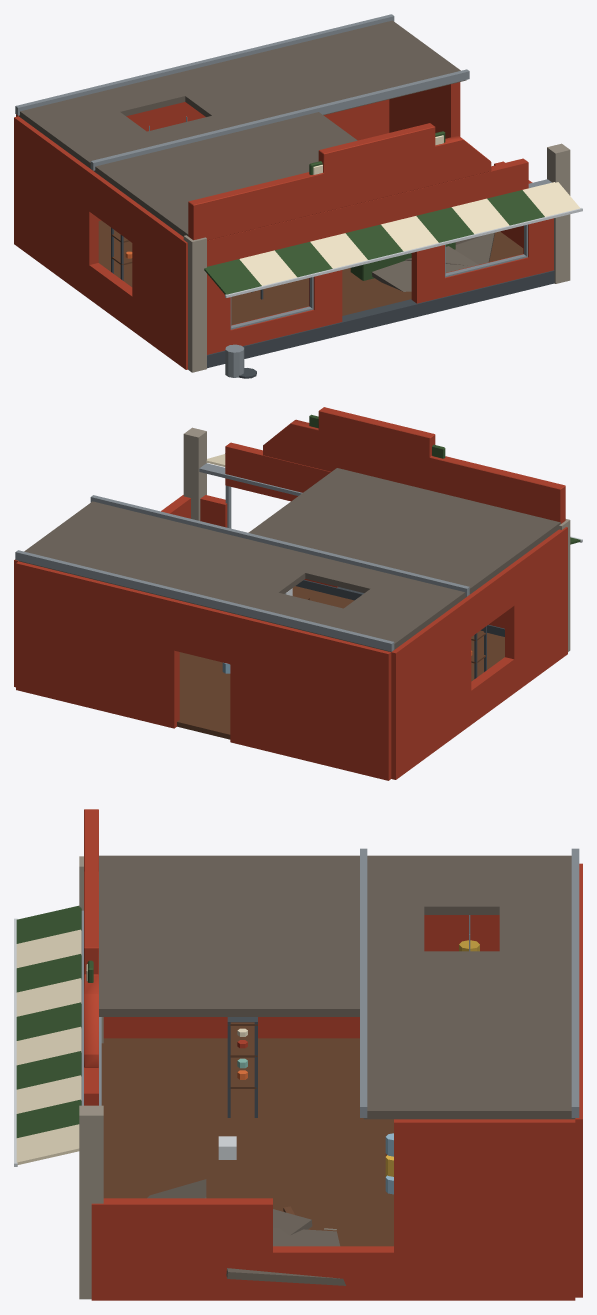
Rendered from Bldg_HardwareStore.fbx.
3 renders of one model, top to bottom at view 1: azimuth 30°, elevation 25°; view 2: azimuth 150°, elevation 25°; view 3: azimuth 270°, elevation 25°, orthographic. The views are drawn at different scales.
Visible parts, largest first — view 1: Roof, Decor, FalseFront, Wall13, Wall10, Floor, Wall16, Wall6, Wall8, Wall4, Wall3, Wall1 (+10 smaller); view 2: Roof, Wall17, Wall19, FalseFront, Decor, Wall13, Wall10, Floor, Wall8, Wall18, Wall12, Wall11 (+1 smaller); view 3: Roof, Floor, Decor, Wall16, Wall14, Wall15, FalseFront, Wall10, Wall13, Wall11, Wall19.
Boxes of the visible parts, x1,y1,x2,y2 form: Roof: (19, 20, 466, 236); Decor: (15, 14, 582, 378); FalseFront: (188, 123, 491, 240); Wall13: (14, 116, 98, 298); Wall10: (132, 203, 187, 369); Floor: (98, 220, 523, 324); Wall16: (389, 82, 460, 138); Wall6: (411, 182, 444, 303); Wall8: (445, 158, 528, 208); Wall4: (309, 208, 342, 328); Wall3: (230, 214, 314, 260); Wall1: (207, 235, 230, 354); Roof: (19, 468, 560, 651); Wall17: (230, 613, 391, 780); Wall19: (16, 561, 179, 728); FalseFront: (263, 407, 565, 523); Decor: (15, 414, 582, 678); Wall13: (391, 597, 471, 779); Wall10: (505, 527, 567, 692); Floor: (177, 586, 504, 739); Wall8: (225, 442, 308, 501); Wall18: (174, 600, 232, 663); Wall12: (467, 565, 514, 636); Wall11: (471, 657, 514, 724); Roof: (99, 855, 575, 1119); Floor: (101, 1038, 393, 1246); Decor: (14, 848, 579, 1299); Wall16: (394, 1119, 575, 1300); Wall14: (91, 1198, 272, 1300); Wall15: (273, 1246, 393, 1300); FalseFront: (84, 809, 98, 1067); Wall10: (103, 1017, 227, 1038); Wall13: (424, 915, 499, 951); Wall11: (258, 1017, 359, 1038); Wall19: (575, 1010, 582, 1297).
Bounding box in the file's own units: 41.69 × 19.6 × 37.62.
